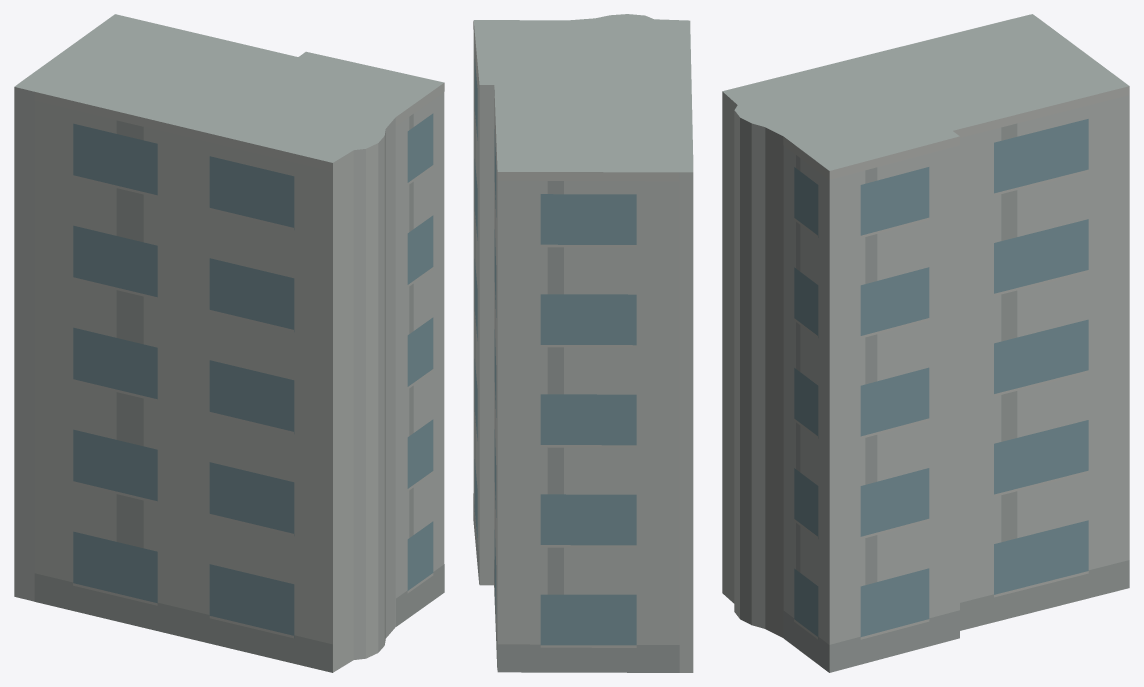
File: survey-upis-32724542.glb
3 views of the same model, side by side, from view 1: azimuth 30°, elevation 25°; view 2: azimuth 150°, elevation 25°; view 3: azimuth 270°, elevation 25° (orthographic).
Visible parts, largest first — view 1: survey-upis-32724542.tmp; view 2: survey-upis-32724542.tmp; view 3: survey-upis-32724542.tmp.
Boxes of the visible parts, x1,y1,x2,y2 form: survey-upis-32724542.tmp: (14,14,444,672); survey-upis-32724542.tmp: (473,14,693,672); survey-upis-32724542.tmp: (722,14,1129,672).
Size of the model in its own units: 9.2 by 13.7 by 10.09.
